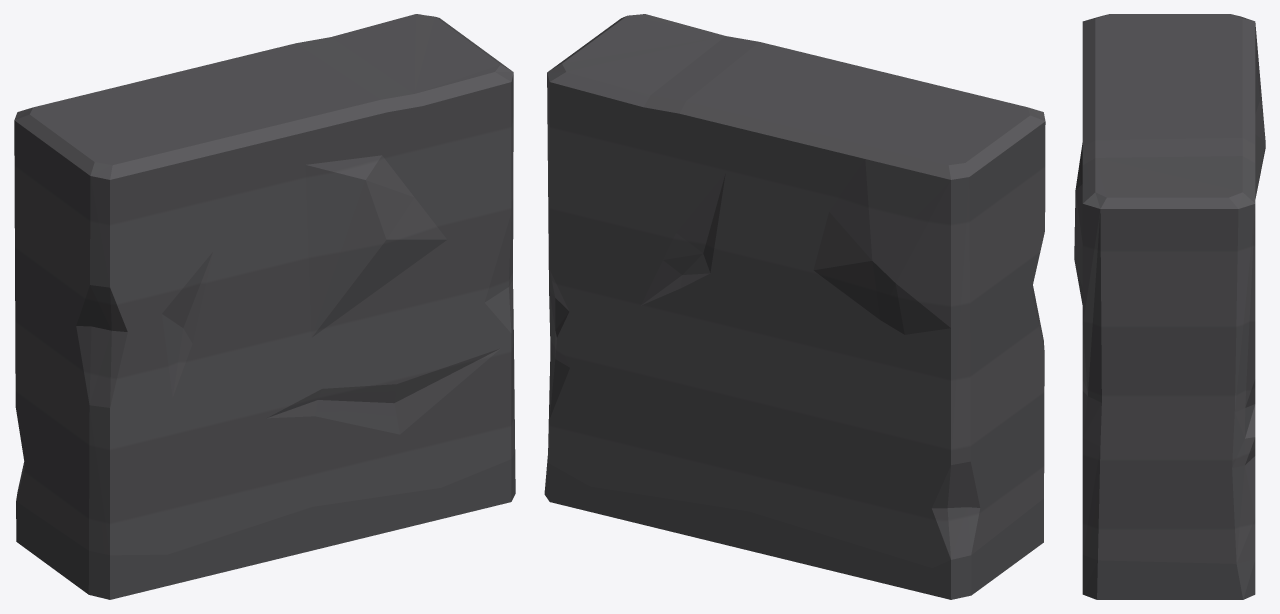
Rendered from SM_Bld_Castle_Wall_01_Lite.gltf.
3 renders of one model, left to right at view 1: azimuth 30°, elevation 25°; view 2: azimuth 150°, elevation 25°; view 3: azimuth 270°, elevation 25°, orthographic. The views are drawn at different scales.
Visible parts, largest first — view 1: SM_Bld_Castle_Wall_01_Lite; view 2: SM_Bld_Castle_Wall_01_Lite; view 3: SM_Bld_Castle_Wall_01_Lite.
Part boxes in pixels (box(x1,y1,x2,y2)): SM_Bld_Castle_Wall_01_Lite: box(14, 14, 515, 599); SM_Bld_Castle_Wall_01_Lite: box(544, 14, 1045, 599); SM_Bld_Castle_Wall_01_Lite: box(1074, 14, 1265, 599).
Size of the model in its own units: 5.28 by 5.09 by 2.22.
1 material, 1 textured.
